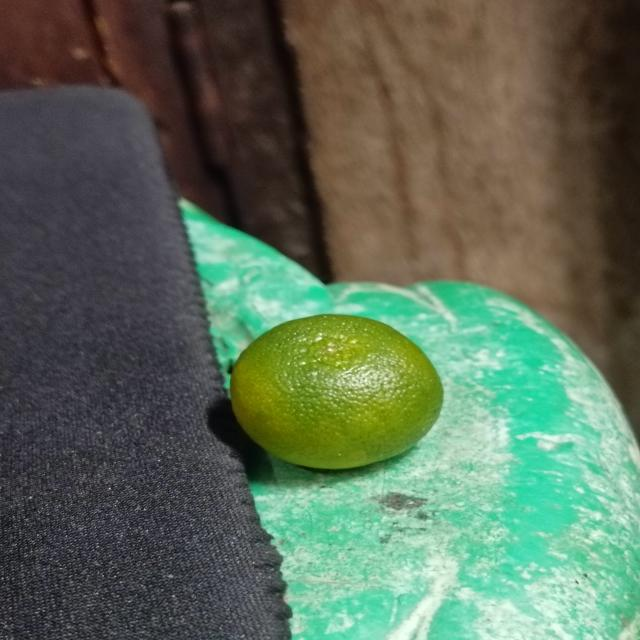heathy: (228, 311, 446, 473)
